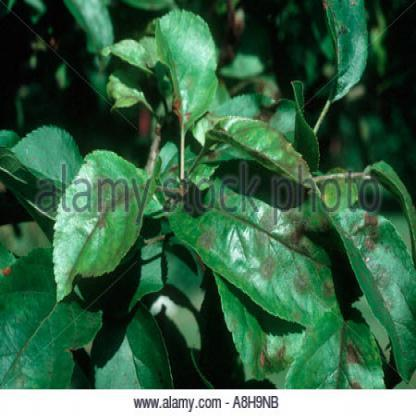Apple Scab Leaf: (174, 167, 341, 328), (333, 199, 415, 388), (58, 134, 150, 294), (214, 96, 326, 203)
